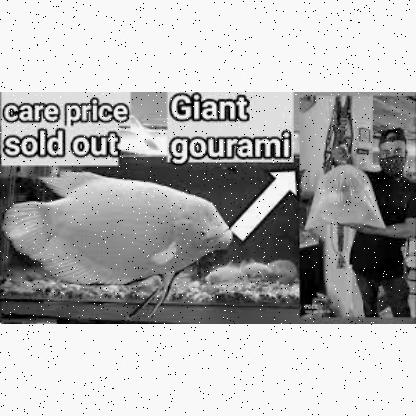gurame: (7, 170, 237, 304)
